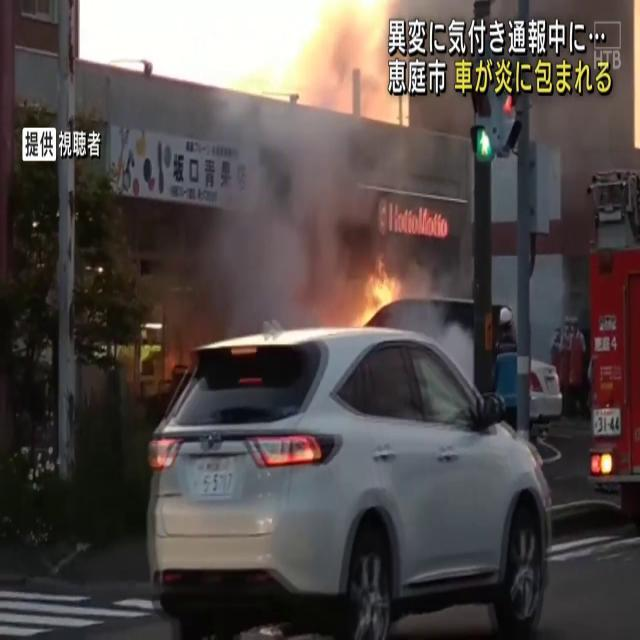Fire: (346, 255, 406, 332)
Smoke: (190, 0, 418, 310)
